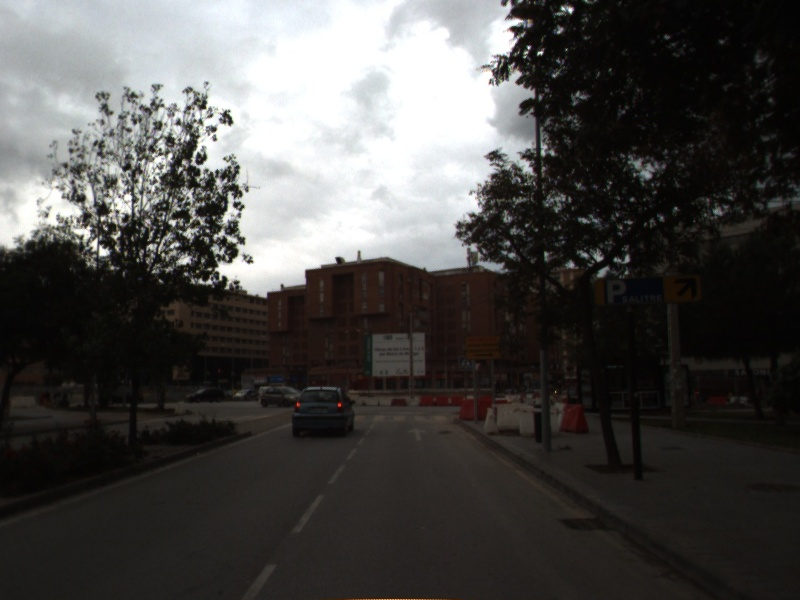STRAIGHT: (404, 426, 430, 443)
